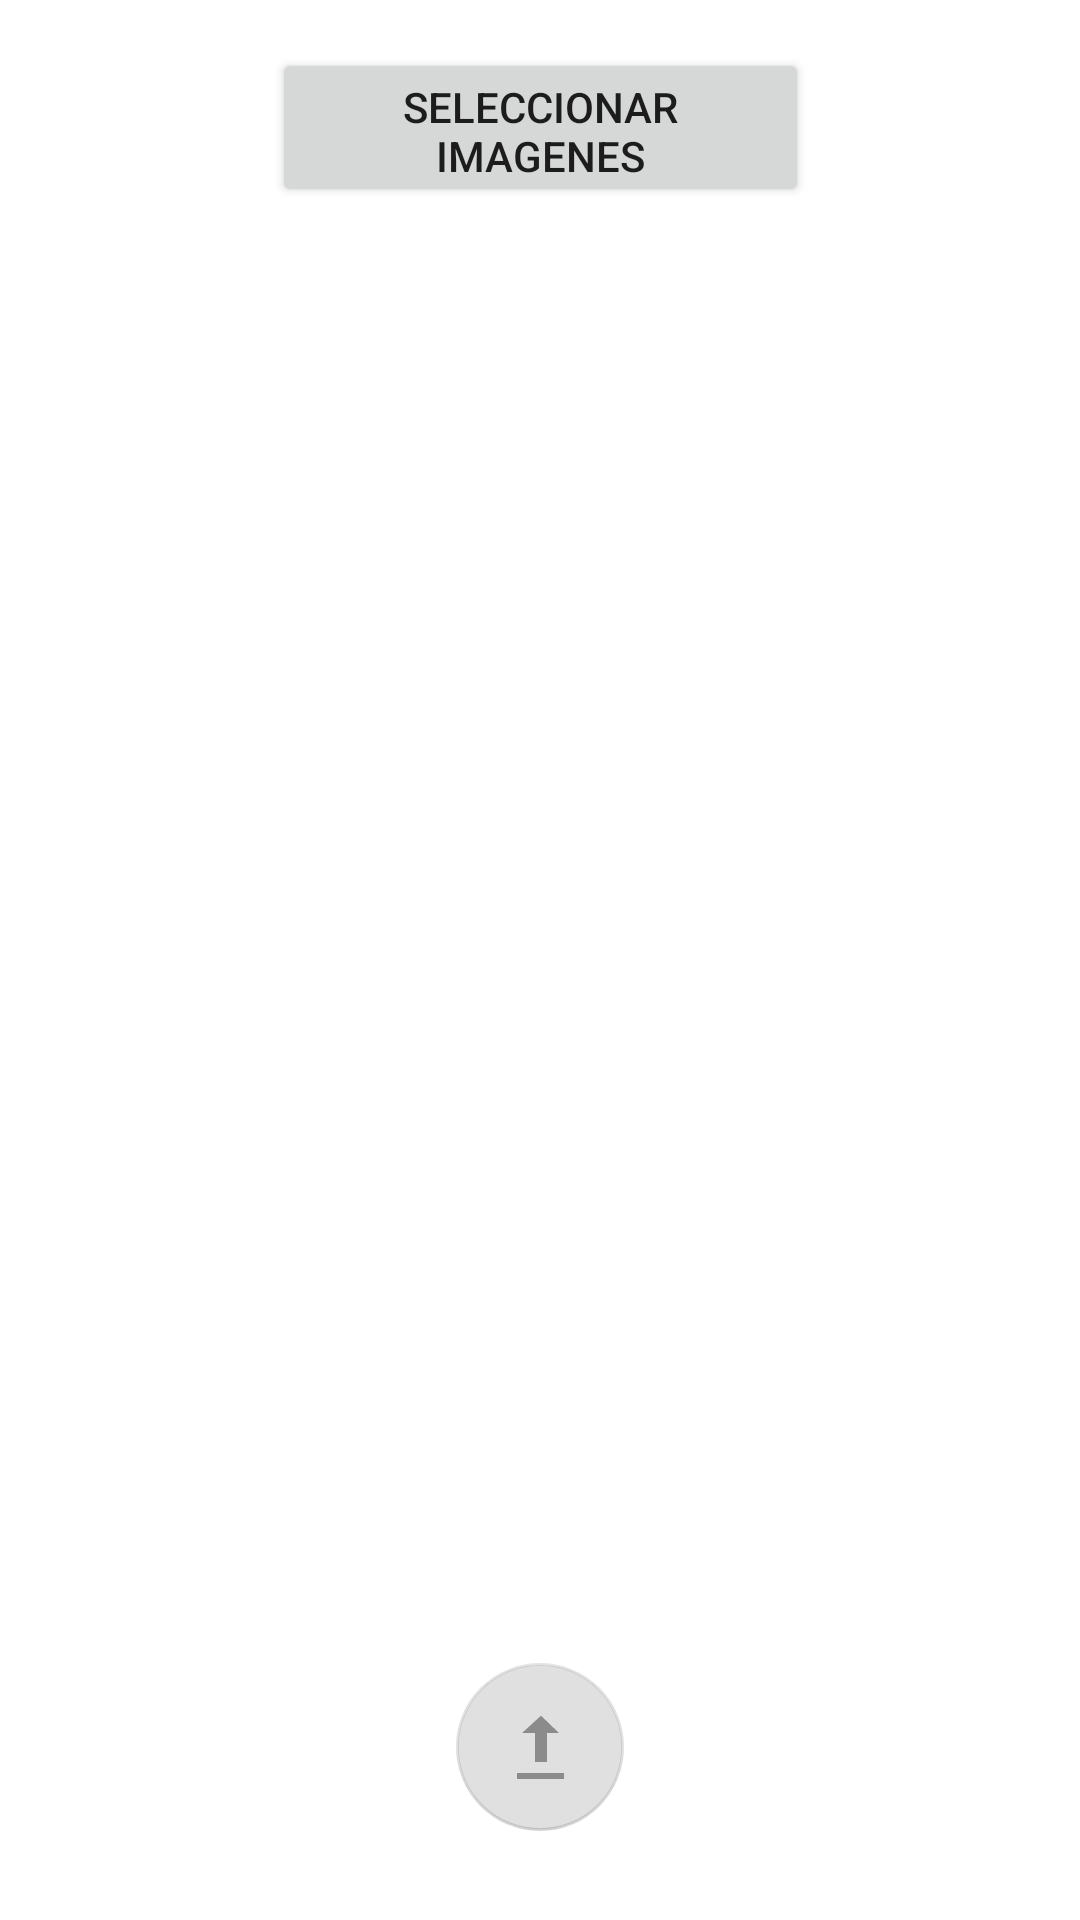

Icons on this 1080*1920 Android screen, each with its box as bbox=(x1, y1, x2, y2):
upload done: bbox=(456, 1663, 624, 1831)
